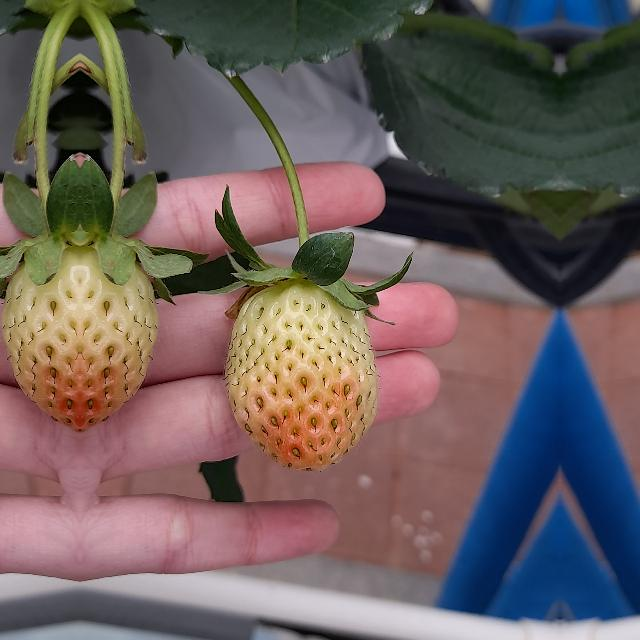Health_50: (225, 274, 378, 472), (80, 231, 164, 445), (0, 231, 80, 445)
